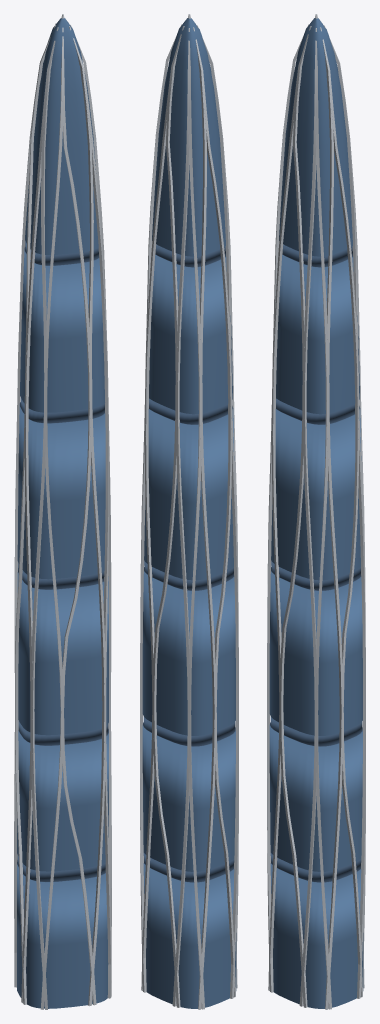
File: ningbo-central-plaza.glb
3 views of the same model, side by side, from view 1: azimuth 30°, elevation 25°; view 2: azimuth 150°, elevation 25°; view 3: azimuth 330°, elevation 25° (orthographic).
Visible parts, largest first — view 1: Ningbo Central Plaza; view 2: Ningbo Central Plaza; view 3: Ningbo Central Plaza.
Part boxes in pixels (<box>): Ningbo Central Plaza: <box>14,14,111,1009</box>; Ningbo Central Plaza: <box>140,14,238,1009</box>; Ningbo Central Plaza: <box>267,14,365,1009</box>.
Size of the model in its own units: 37.42 by 410 by 33.49.
